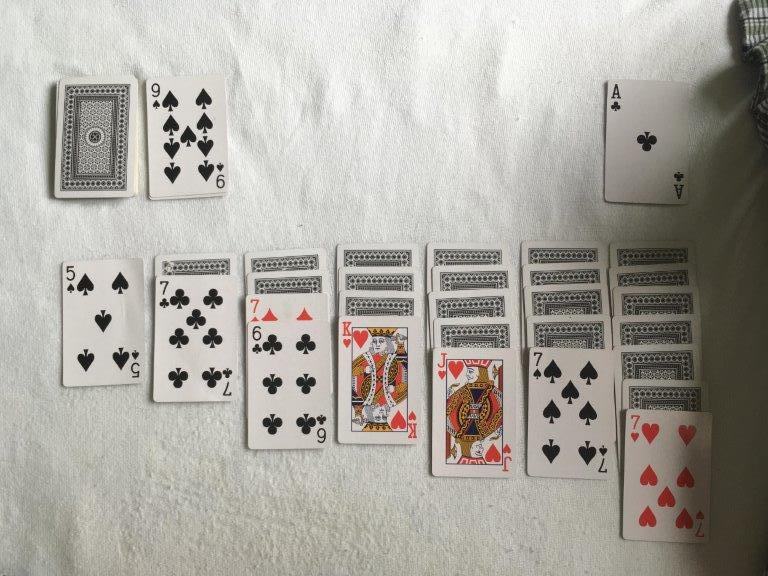5S: (64, 262, 82, 295)
6C: (248, 322, 266, 358)
7C: (158, 278, 171, 310)
7D: (248, 295, 262, 321)
7H: (629, 409, 642, 445)
7S: (531, 347, 547, 382)
9S: (147, 80, 164, 114)
AC: (608, 79, 624, 117)
BACK: (53, 77, 139, 199), (613, 343, 701, 380), (525, 314, 612, 347), (525, 282, 609, 316), (622, 378, 709, 409), (612, 313, 701, 343), (433, 316, 516, 347), (428, 287, 513, 316), (613, 285, 701, 313), (337, 289, 421, 315), (336, 242, 419, 268), (608, 261, 697, 285), (247, 269, 330, 294), (154, 251, 239, 275), (243, 246, 328, 270), (338, 266, 422, 289), (431, 264, 514, 287), (425, 241, 509, 263), (521, 261, 608, 282), (608, 241, 697, 261), (521, 241, 607, 260)
JH: (434, 348, 453, 381)
KH: (340, 317, 357, 351)
